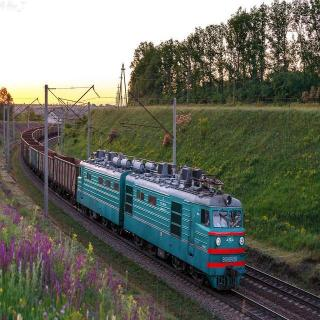poezd: (79, 161, 243, 288)
